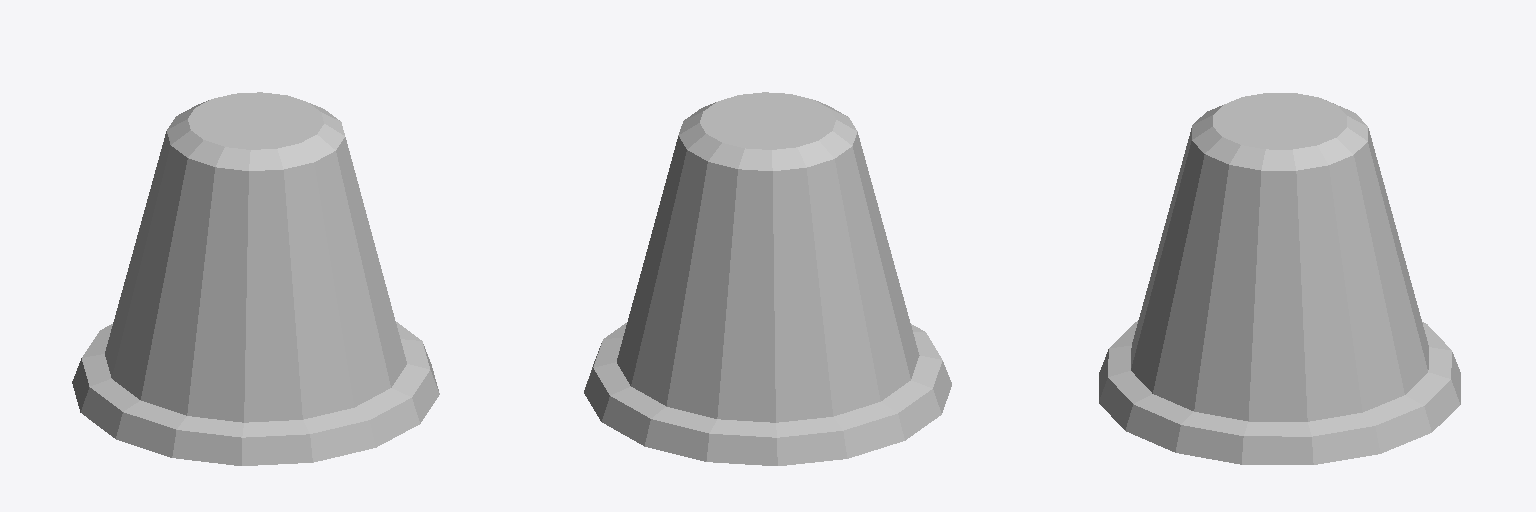
Rendered from spinny_light.obj.
3 views of the same model, side by side, from view 1: azimuth 30°, elevation 25°; view 2: azimuth 150°, elevation 25°; view 3: azimuth 270°, elevation 25° (orthographic).
Visible parts, largest first — view 1: dome, base; view 2: dome, base; view 3: dome, base.
Part boxes in pixels (left/top/right/bottom): dome: left=105, top=92, right=406, bottom=422; base: left=72, top=322, right=439, bottom=465; dome: left=617, top=92, right=919, bottom=422; base: left=584, top=323, right=951, bottom=465; dome: left=1131, top=93, right=1428, bottom=421; base: left=1099, top=321, right=1460, bottom=464.
Bounding box in the file's own units: 0.4315 × 0.3538 × 0.4315.